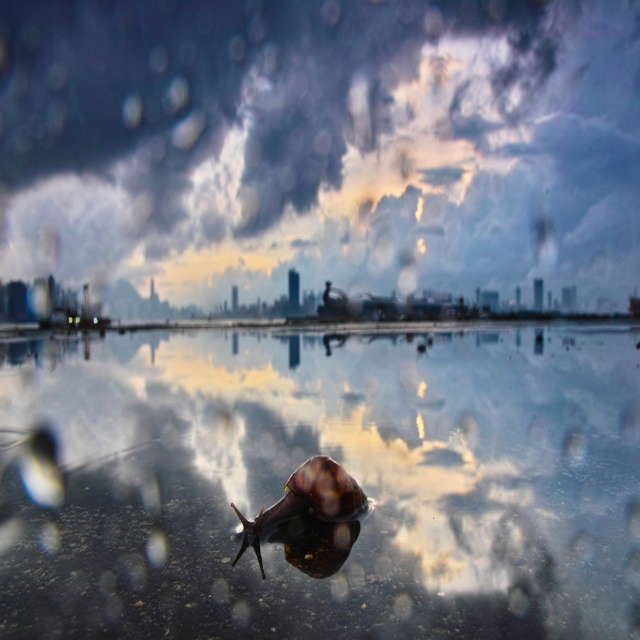Snail: (230, 455, 373, 541)
